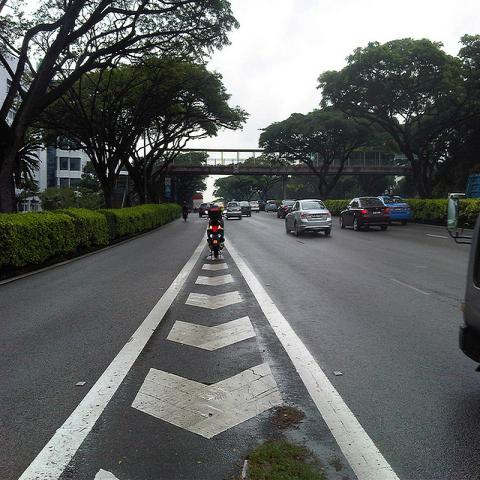car: (340, 197, 390, 232), (285, 199, 331, 237), (381, 194, 410, 224), (225, 201, 242, 221), (278, 200, 296, 218), (239, 201, 252, 217), (265, 200, 277, 213), (249, 200, 260, 214), (256, 199, 266, 211)
motorcycle: (207, 217, 225, 255)
